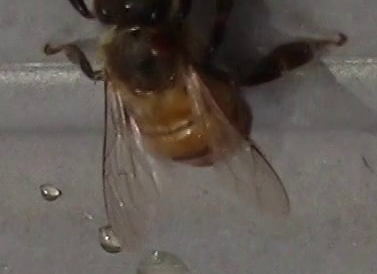Varroa destructor: (146, 30, 179, 60)
